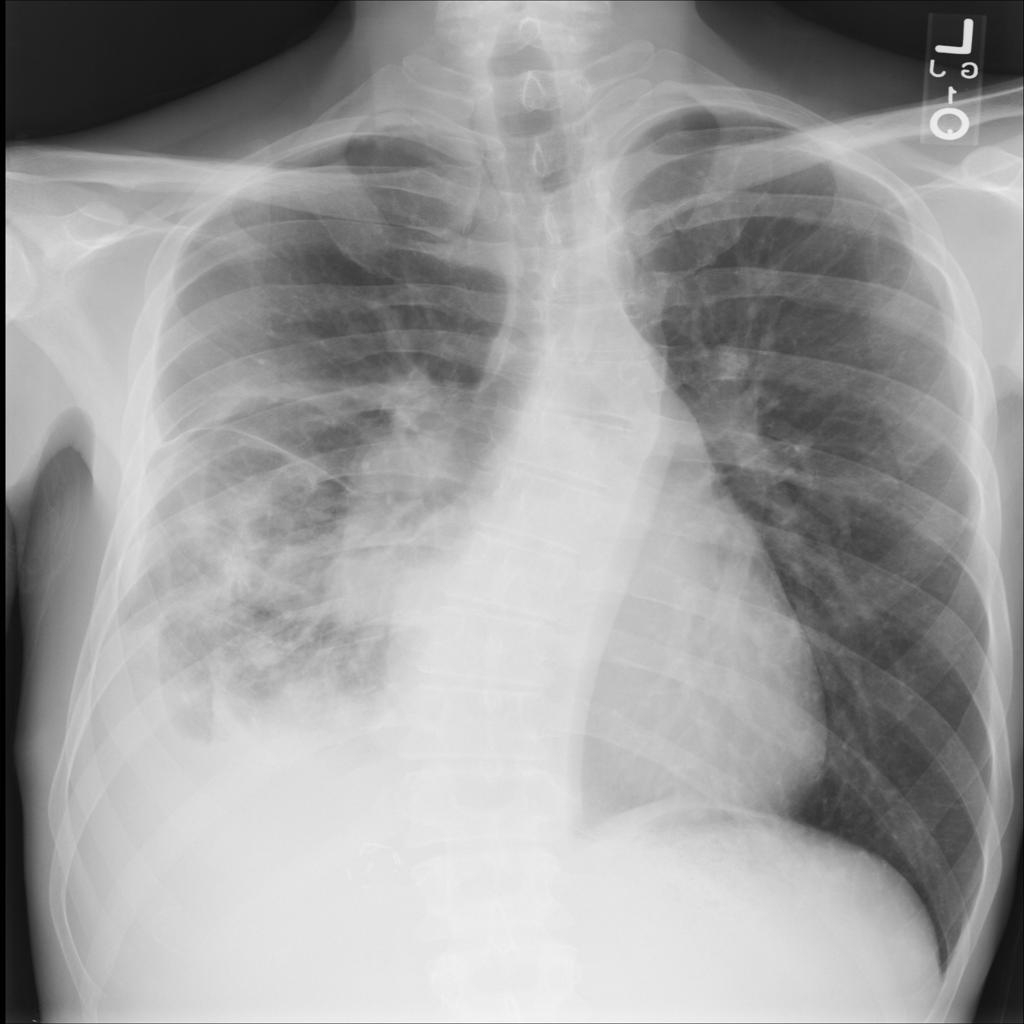nodule: (782, 194, 837, 238)
